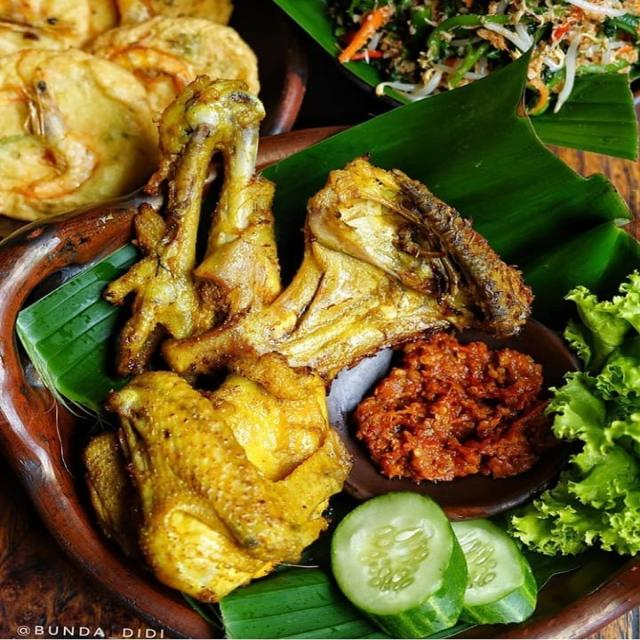Frango: (166, 158, 532, 368), (82, 351, 348, 599), (105, 84, 274, 385)
